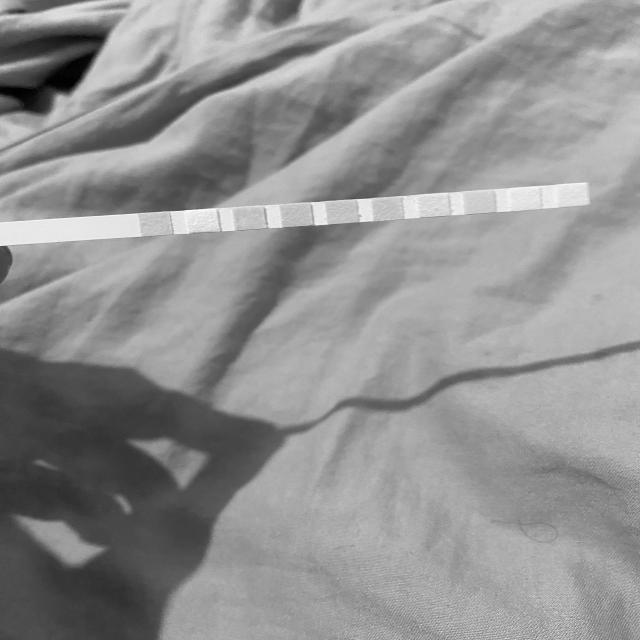Bilirubin: (191, 211, 216, 232)
Blood: (331, 202, 355, 222)
Glucose: (144, 215, 169, 234)
Ketone: (238, 209, 262, 228)
Leukocytes: (561, 186, 585, 205)
Nitrite: (514, 190, 540, 208)
Protein: (424, 196, 445, 215)
SpGravity: (285, 205, 311, 225)
Urobilinogen: (468, 192, 492, 212)
background: (0, 0, 640, 640)
pH: (378, 199, 400, 218)
strip: (4, 183, 588, 244)
